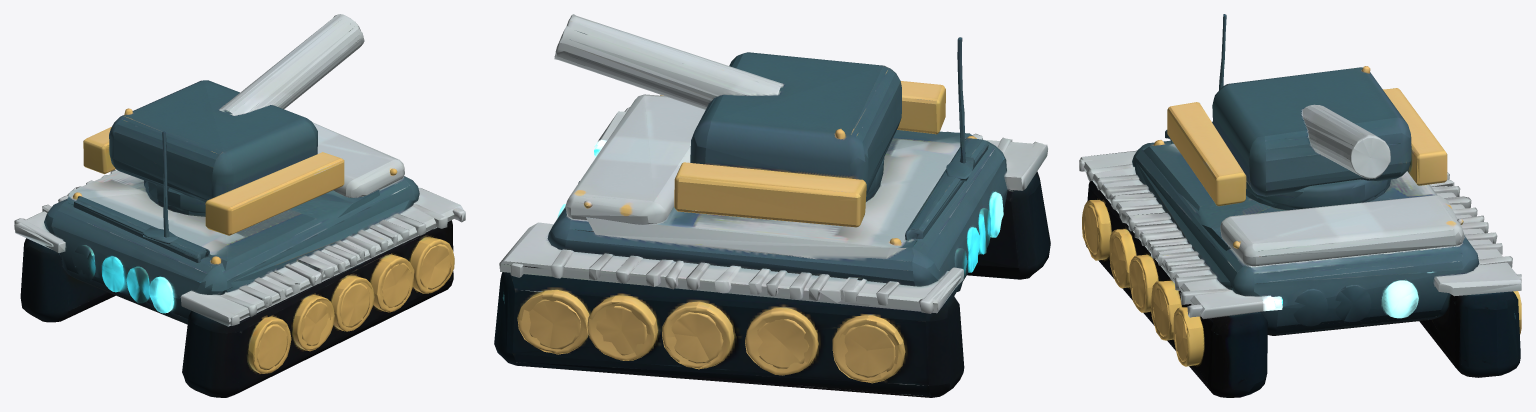
File: fortress-tank.glb
3 views of the same model, side by side, from view 1: azimuth 30°, elevation 25°; view 2: azimuth 150°, elevation 25°; view 3: azimuth 270°, elevation 25° (orthographic). The views are drawn at different scales.
Size of the model in its own units: 0.9883 by 0.6152 by 1.
1 material, 1 textured.
